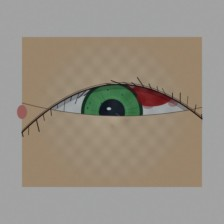hemorrhage_spot: (121, 71, 181, 118)
